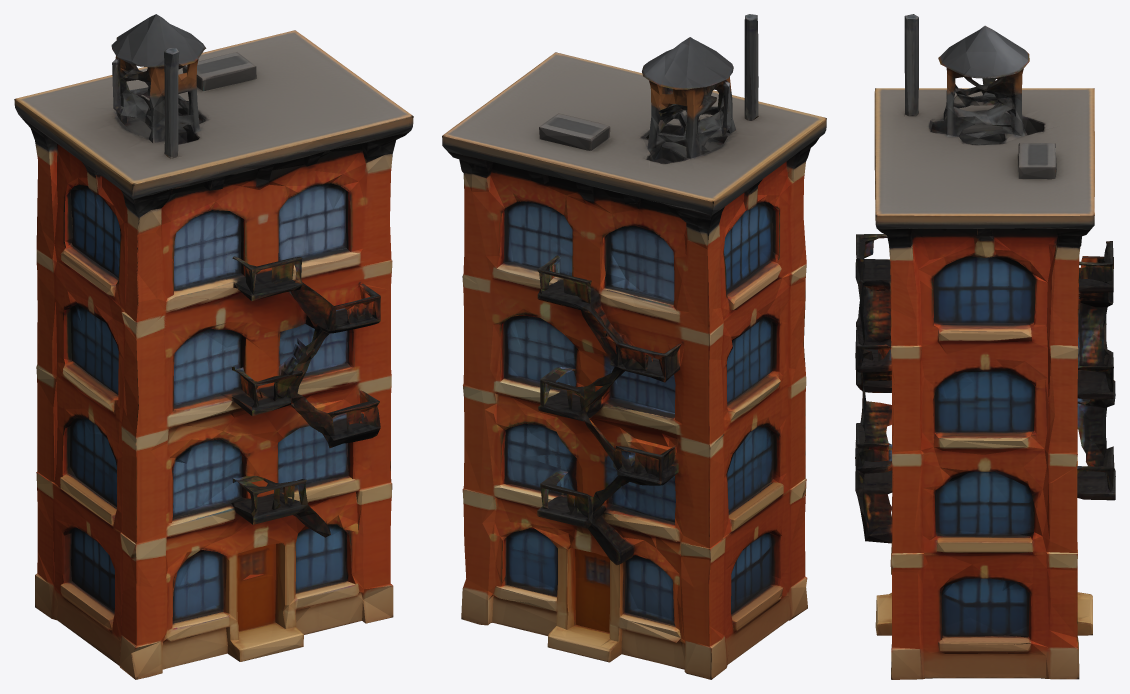
Rendered from brick_loft.glb.
3 views of the same model, side by side, from view 1: azimuth 30°, elevation 25°; view 2: azimuth 150°, elevation 25°; view 3: azimuth 270°, elevation 25° (orthographic). The views are drawn at different scales.
Visible parts, largest first — view 1: geometry_0; view 2: geometry_0; view 3: geometry_0.
Boxes of the visible parts, box(x1,y1,x2,y2) form: geometry_0: box(14, 14, 413, 679); geometry_0: box(442, 14, 826, 679); geometry_0: box(855, 14, 1115, 679).
Size of the model in its own units: 0.4821 by 1 by 0.4149.
1 material, 1 textured.
